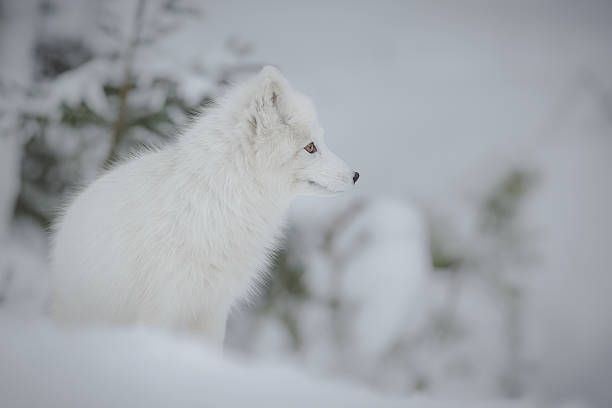arcticfox: (261, 102, 355, 203)
